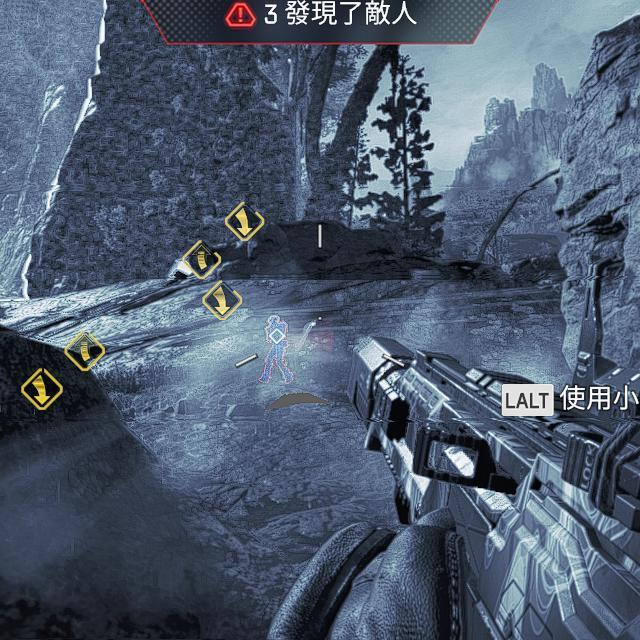avatar: (259, 315, 295, 385)
object: (269, 327, 285, 345)
